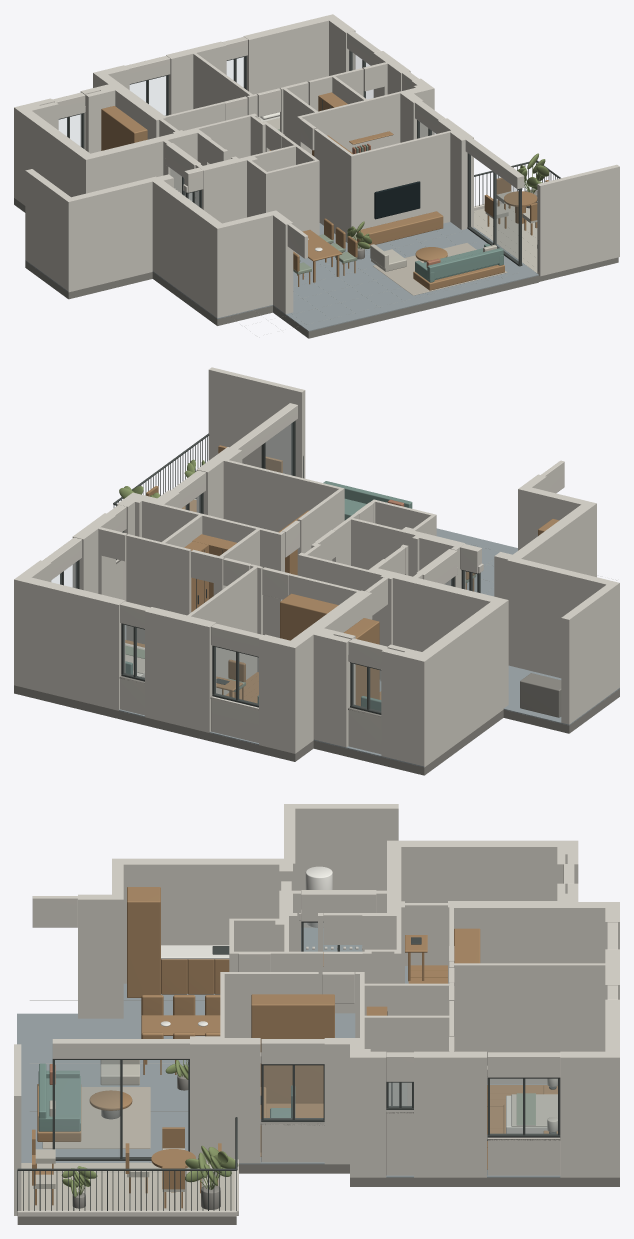
File: type-a.glb
The picture shows the model from 3 angles, top to bottom: view 1: azimuth 30°, elevation 25°; view 2: azimuth 150°, elevation 25°; view 3: azimuth 270°, elevation 25°; orthographic projection. The views are drawn at different scales.
Visible parts, largest first — view 1: A | PDF-traced wall 10, A | PDF-traced wall 5, A | PDF-traced wall 7, A | Continuous stone floor, A | PDF-traced wall 1, Balcony solid chair-end wall, A | PDF-traced wall 2, A | PDF-traced wall 4, A | PDF-traced wall 8, A | PDF-traced wall 6, A | Apartment structural slab, Balcony warm stone finish (+23 smaller); view 2: A | PDF-traced wall 7, A | PDF-traced wall 10, A | PDF-traced wall 8, A | PDF-traced wall 4, A | PDF-traced wall 2, A | PDF-traced wall 6, A | PDF-traced wall 5, Balcony solid chair-end wall, A | PDF-traced wall 1, A | Apartment structural slab, A | Continuous stone floor, A | PDF-traced wall 3 (+23 smaller); view 3: A | PDF-traced wall 10, A | PDF-traced wall 7, A | PDF-traced wall 2, A | PDF-traced wall 6, A | Continuous stone floor, A | PDF-traced wall 5, A | PDF-traced wall 8, A | PDF-traced wall 3, A | PDF-traced wall 4, Living balcony sliders | glazing, Balcony warm stone finish, Bedroom 3 wardrobe (+42 smaller).
Part boxes in pixels (x1=…): A | PDF-traced wall 10: x1=25, y1=169, x2=293, y2=318; A | PDF-traced wall 5: x1=314, y1=118, x2=473, y2=242; A | PDF-traced wall 7: x1=14, y1=98, x2=269, y2=205; A | Continuous stone floor: x1=25, y1=222, x2=538, y2=331; A | PDF-traced wall 1: x1=195, y1=135, x2=319, y2=255; Balcony solid chair-end wall: x1=537, y1=164, x2=619, y2=276; A | PDF-traced wall 2: x1=280, y1=68, x2=434, y2=154; A | PDF-traced wall 4: x1=243, y1=14, x2=355, y2=94; A | PDF-traced wall 8: x1=80, y1=65, x2=224, y2=153; A | PDF-traced wall 6: x1=166, y1=41, x2=257, y2=114; A | Apartment structural slab: x1=14, y1=198, x2=538, y2=338; Balcony warm stone finish: x1=474, y1=203, x2=537, y2=272; A | PDF-traced wall 7: x1=298, y1=542, x2=508, y2=767; A | PDF-traced wall 10: x1=494, y1=474, x2=619, y2=724; A | PDF-traced wall 8: x1=259, y1=574, x2=372, y2=753; A | PDF-traced wall 4: x1=14, y1=560, x2=125, y2=710; A | PDF-traced wall 2: x1=117, y1=490, x2=284, y2=644; A | PDF-traced wall 6: x1=145, y1=564, x2=262, y2=732; A | PDF-traced wall 5: x1=196, y1=447, x2=344, y2=574; Balcony solid chair-end wall: x1=208, y1=367, x2=305, y2=478; A | PDF-traced wall 1: x1=332, y1=499, x2=465, y2=589; A | Apartment structural slab: x1=14, y1=685, x2=619, y2=775; A | Continuous stone floor: x1=119, y1=528, x2=619, y2=767; A | PDF-traced wall 3: x1=72, y1=513, x2=115, y2=597; A | PDF-traced wall 10: x1=78, y1=804, x2=398, y2=1018; A | PDF-traced wall 7: x1=362, y1=840, x2=578, y2=983; A | PDF-traced wall 2: x1=324, y1=972, x2=453, y2=1177; A | PDF-traced wall 6: x1=449, y1=949, x2=619, y2=1084; A | Continuous stone floor: x1=17, y1=927, x2=560, y2=1177; A | PDF-traced wall 5: x1=190, y1=972, x2=318, y2=1163; A | PDF-traced wall 8: x1=448, y1=883, x2=619, y2=983; A | PDF-traced wall 3: x1=414, y1=1049, x2=486, y2=1177; A | PDF-traced wall 4: x1=560, y1=999, x2=619, y2=1177; Living balcony sliders | glazing: x1=55, y1=1060, x2=119, y2=1157; Balcony warm stone finish: x1=21, y1=1163, x2=234, y2=1209; Bedroom 3 wardrobe: x1=251, y1=994, x2=334, y2=1103.
Bounding box in the file's own units: 14.9 × 3.07 × 13.03.
